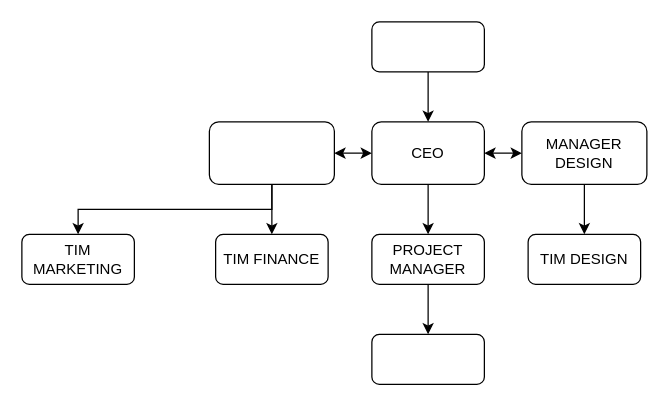
The diagram is 669 pixels wide and 406 high, and some of its shapes have lost their labels. Each missing label, with the box of its shape:
MANAGER MARKETING & FINANCE: (208, 121, 334, 184)
OWNER: (371, 21, 484, 72)
TIM IT: (371, 333, 484, 384)
